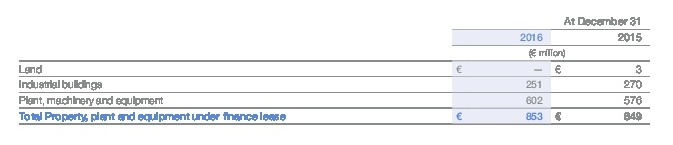table: (0, 0, 673, 145)
